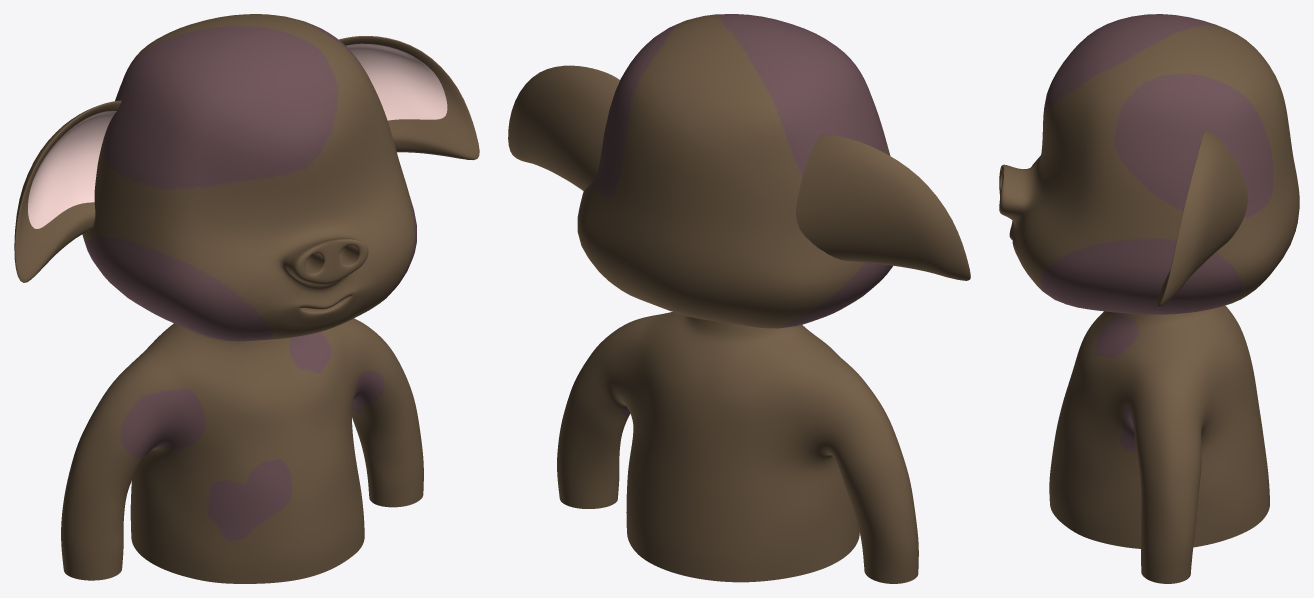
The model's file is GreenPig.gltf.
The picture shows the model from 3 angles, left to right: view 1: azimuth 30°, elevation 25°; view 2: azimuth 150°, elevation 25°; view 3: azimuth 270°, elevation 25°; orthographic projection. The views are drawn at different scales.
Parts seen in each view (by area): view 1: face4-PBR, face4-PBR.1, face4-PBR.2; view 2: face4-PBR.1, face4-PBR; view 3: face4-PBR, face4-PBR.1.
Boxes of the visible parts, x1,y1,x2,y2 form: face4-PBR: (82,14,416,341); face4-PBR.1: (14,36,479,583); face4-PBR.2: (28,43,447,228); face4-PBR.1: (508,65,970,583); face4-PBR: (577,14,892,328); face4-PBR: (999,14,1299,314); face4-PBR.1: (1049,130,1269,583).
Size of the model in its own units: 13.35 by 13.9 by 8.03.
3 materials, 2 textured.
